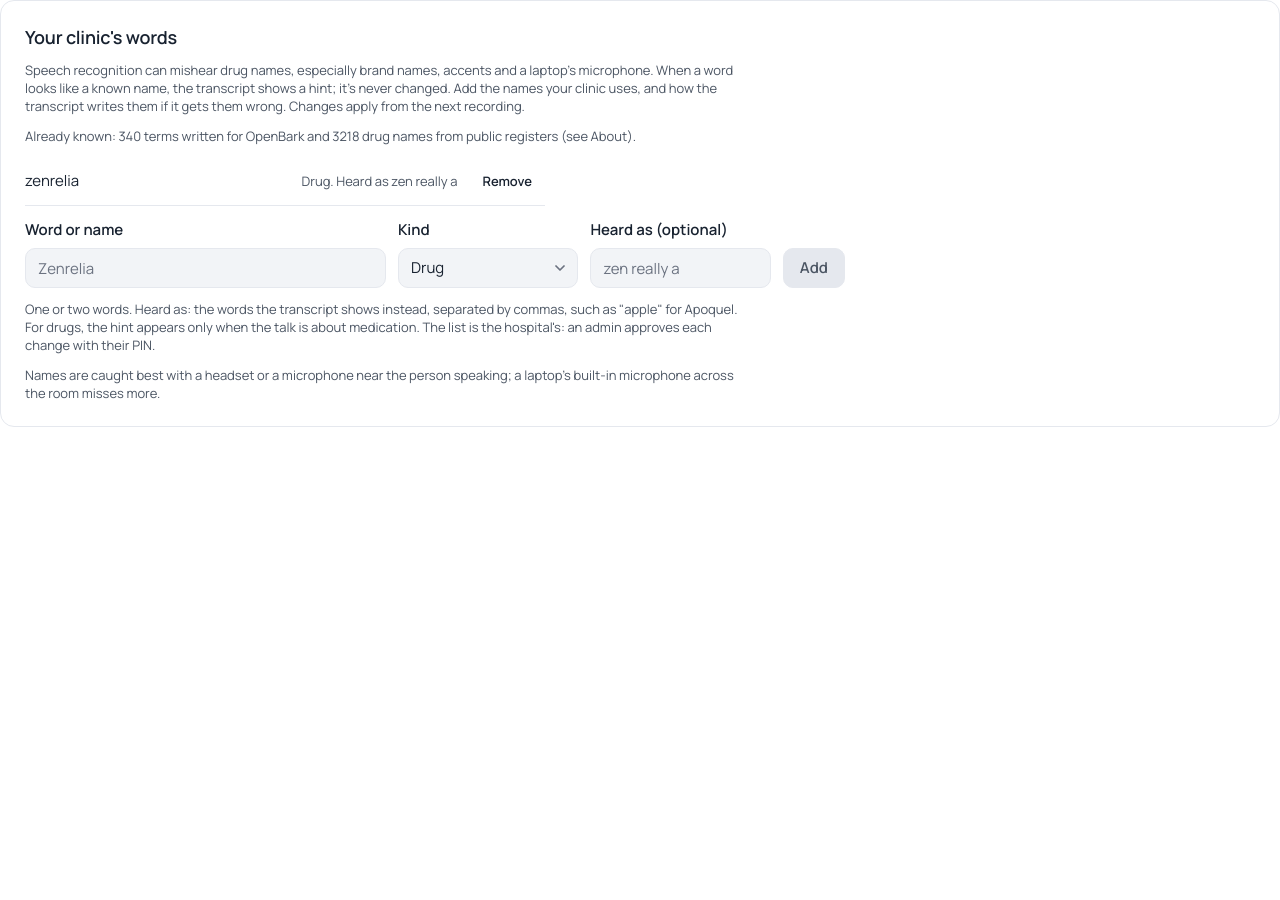
Scenario: Words and drug names › asks an admin to approve a change in a team
Click the button with aria-label "Remove zenrelia".
click(507, 181)  # box [469,165,545,197]
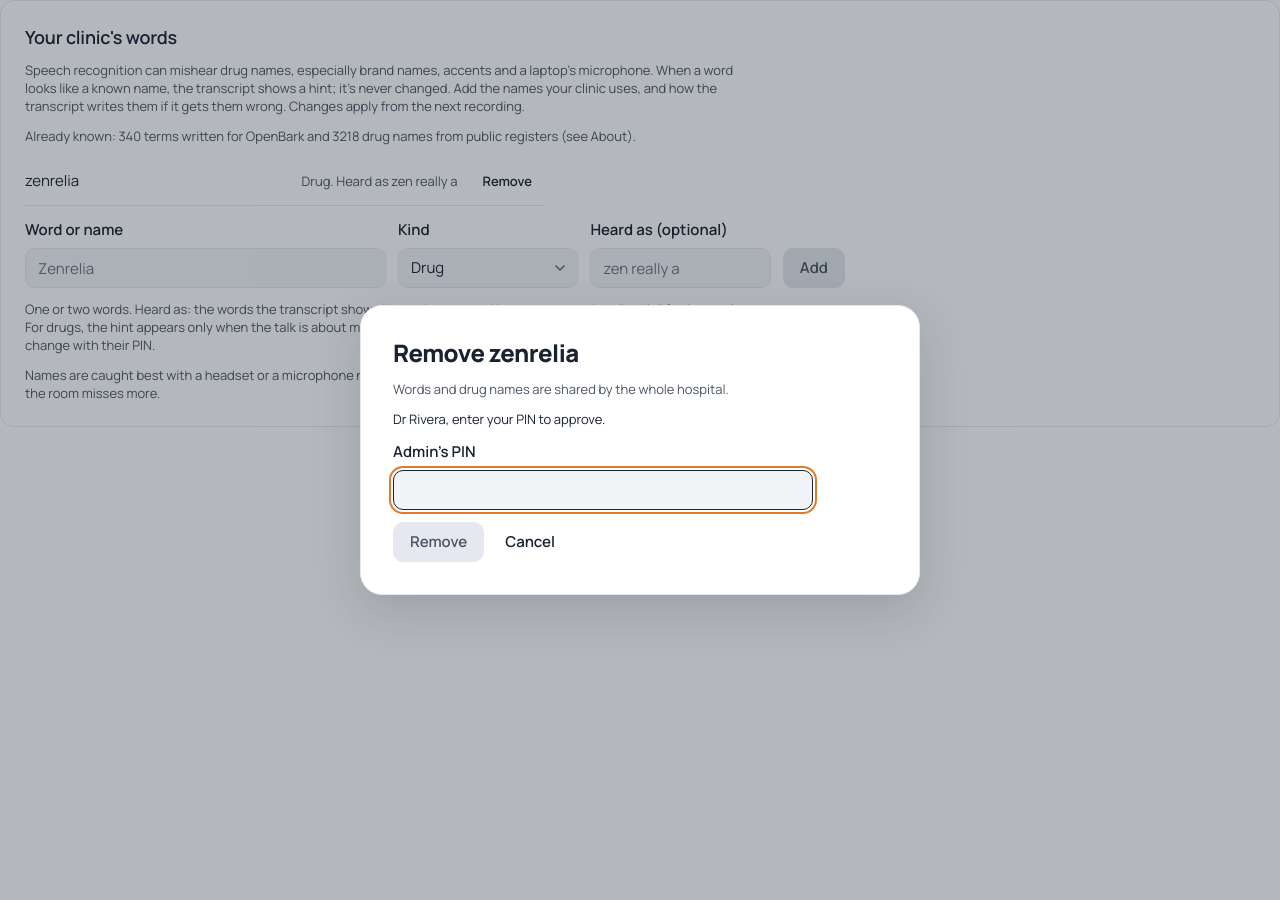
Type "2468" into the password field labelled "Admin's PIN".
click(603, 490); type("2468")  # box [393,470,813,510]
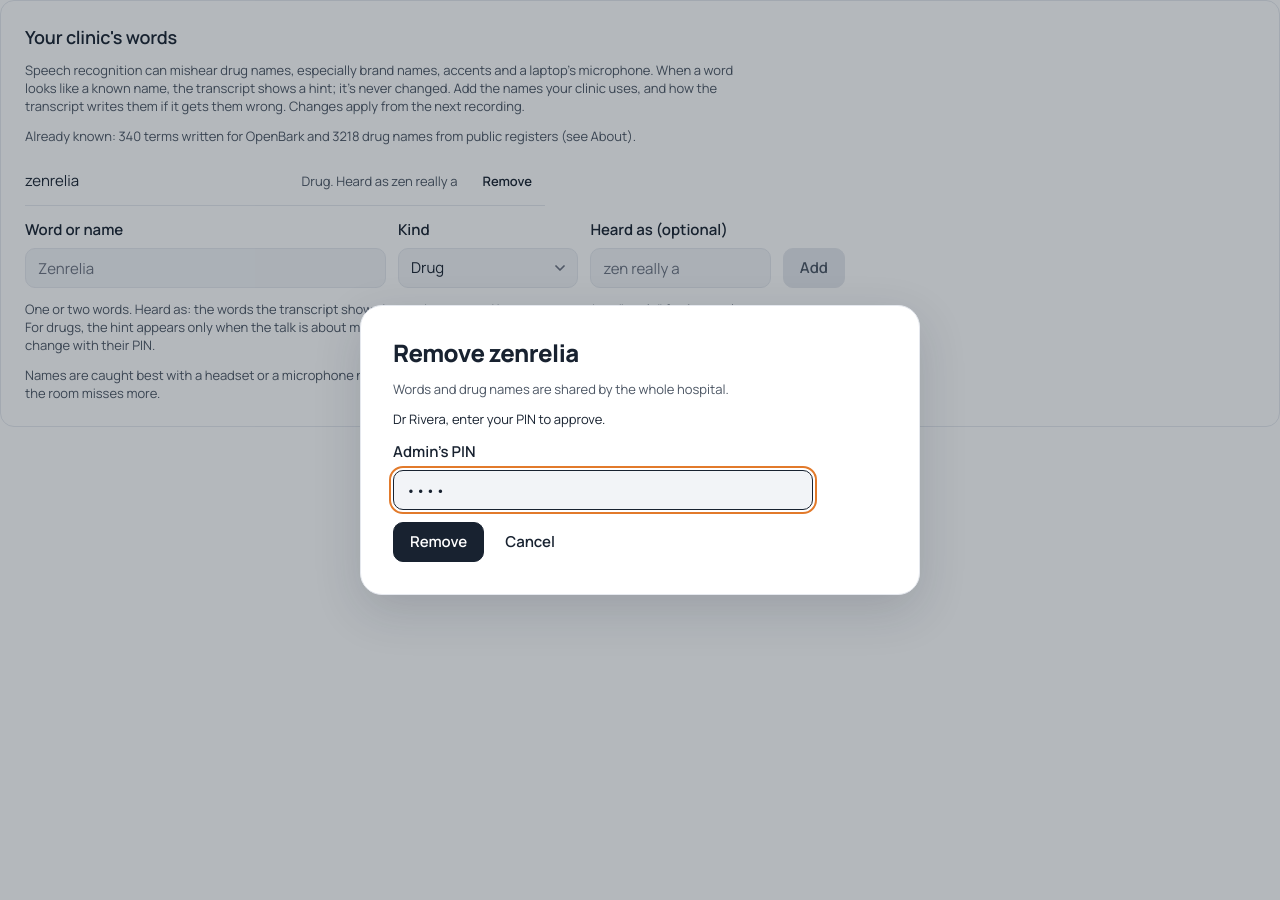
Click the button "Remove".
click(439, 542)  # box [393,522,484,562]
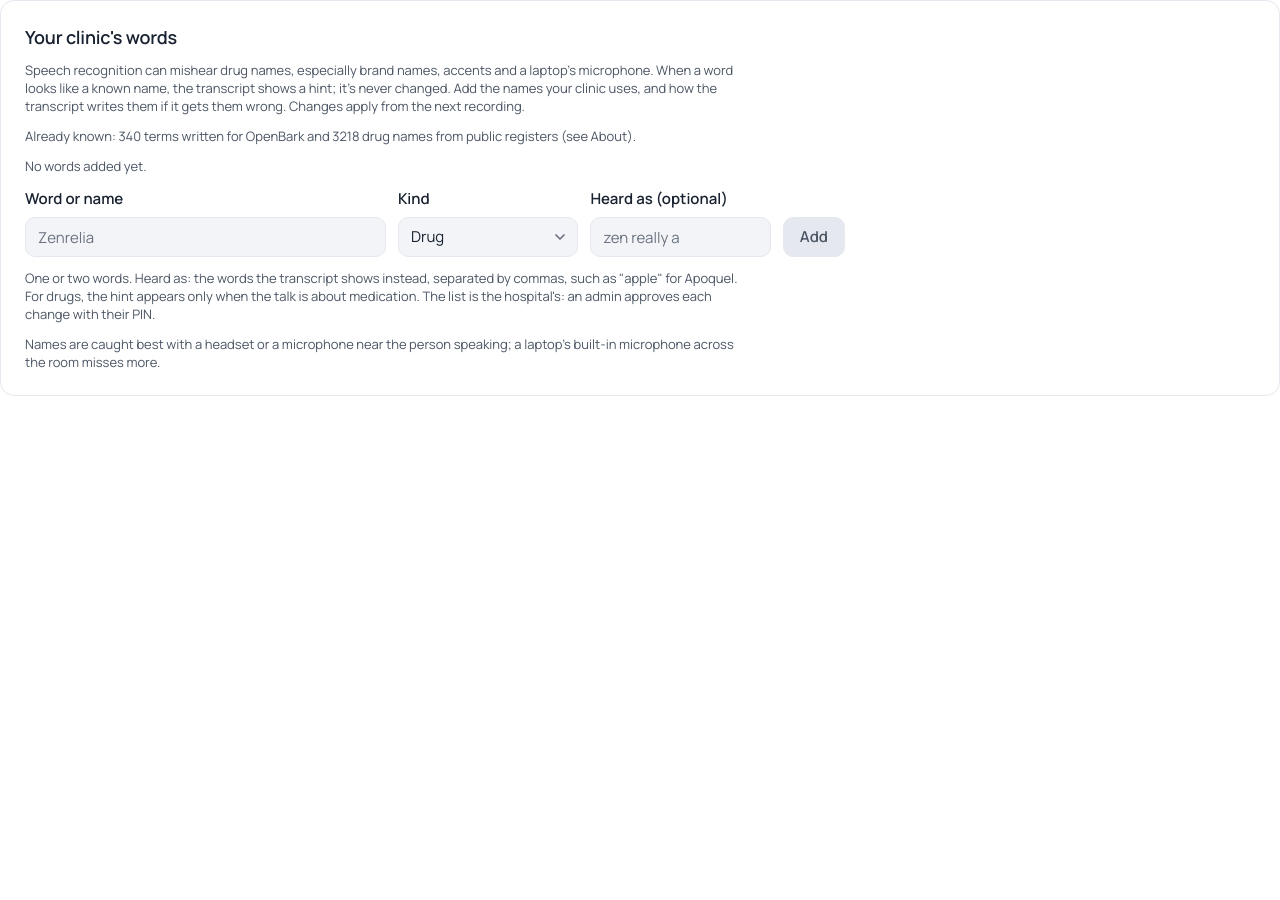
Check: the text "No words added yet." is shown, box [25,157,146,175]
